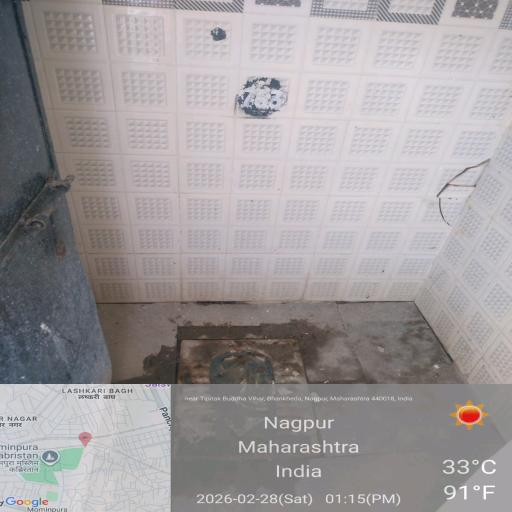clean_floor: (27, 6, 500, 300)
dirty_indian: (85, 268, 397, 476)
